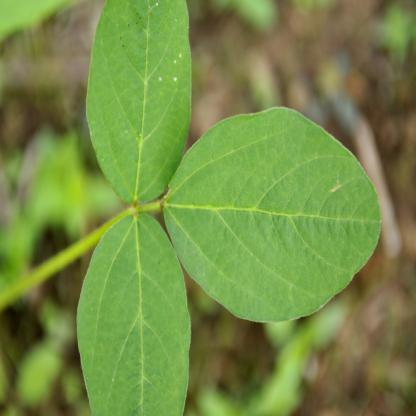Soyabean leaf: (162, 100, 385, 332), (74, 209, 196, 415), (82, 1, 199, 207)
